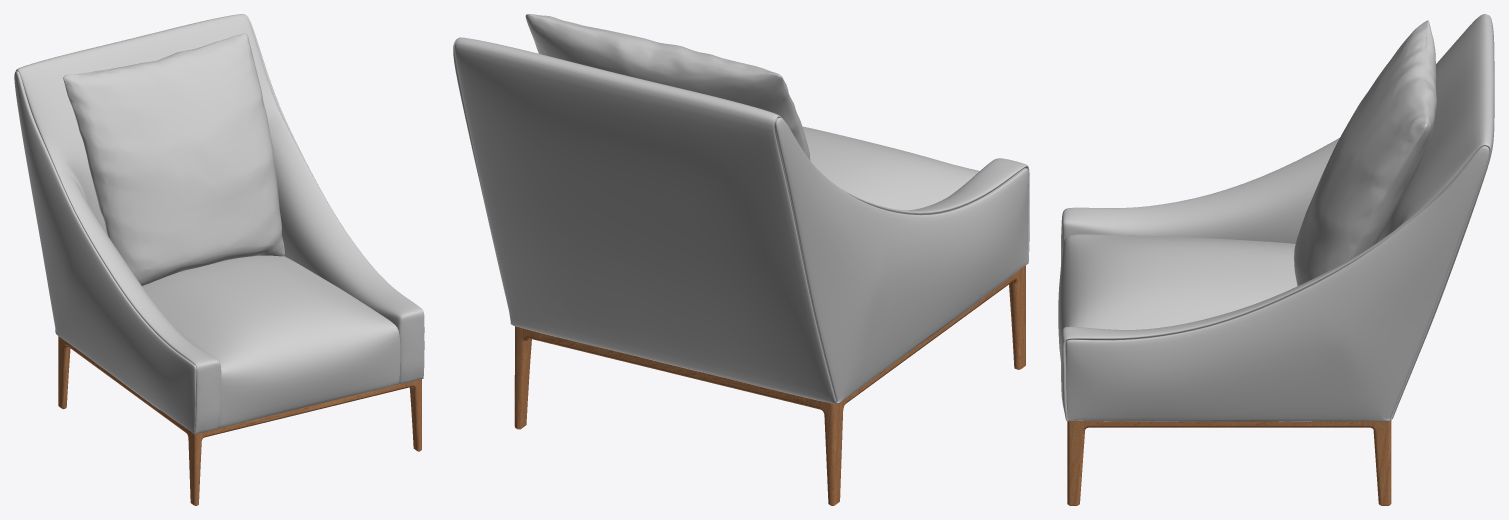
The model's file is jean_obj.obj.
3 views of the same model, side by side, from view 1: azimuth 30°, elevation 25°; view 2: azimuth 150°, elevation 25°; view 3: azimuth 270°, elevation 25° (orthographic). The views are drawn at different scales.
Visible parts, largest first — view 1: sides, pillow, seat, legs; view 2: sides, pillow, legs, seat; view 3: sides, seat, pillow, legs.
Boxes of the visible parts, x1,y1,x2,y2 form: sides: (14, 14, 424, 434); pillow: (63, 33, 284, 285); seat: (142, 255, 400, 427); legs: (58, 336, 421, 505); sides: (453, 37, 1029, 403); pillow: (525, 14, 810, 160); legs: (514, 265, 1025, 505); seat: (802, 126, 979, 210); sides: (1061, 14, 1494, 421); seat: (1058, 234, 1297, 360); pillow: (1294, 20, 1436, 285); legs: (1067, 420, 1391, 505).
Size of the model in its own units: 152 by 185 by 199.
